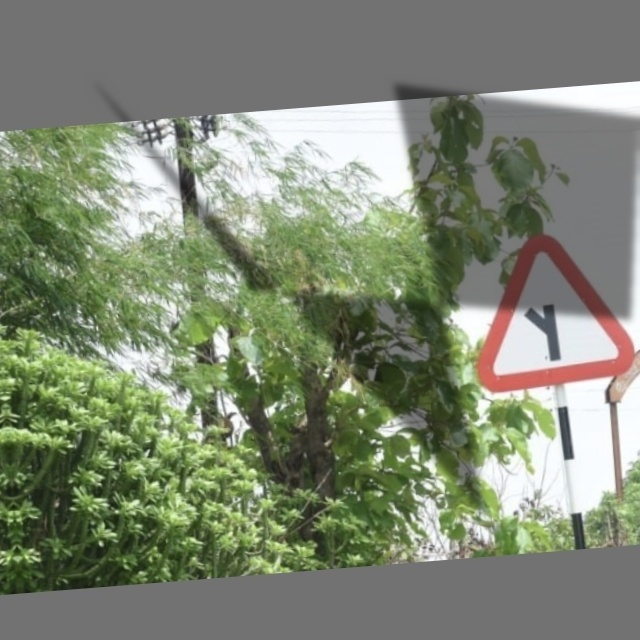Y_Intersection: (468, 230, 630, 391)
